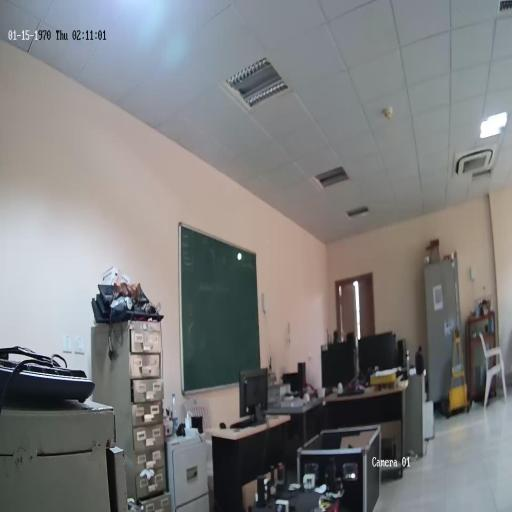laser: (237, 251, 241, 261)
